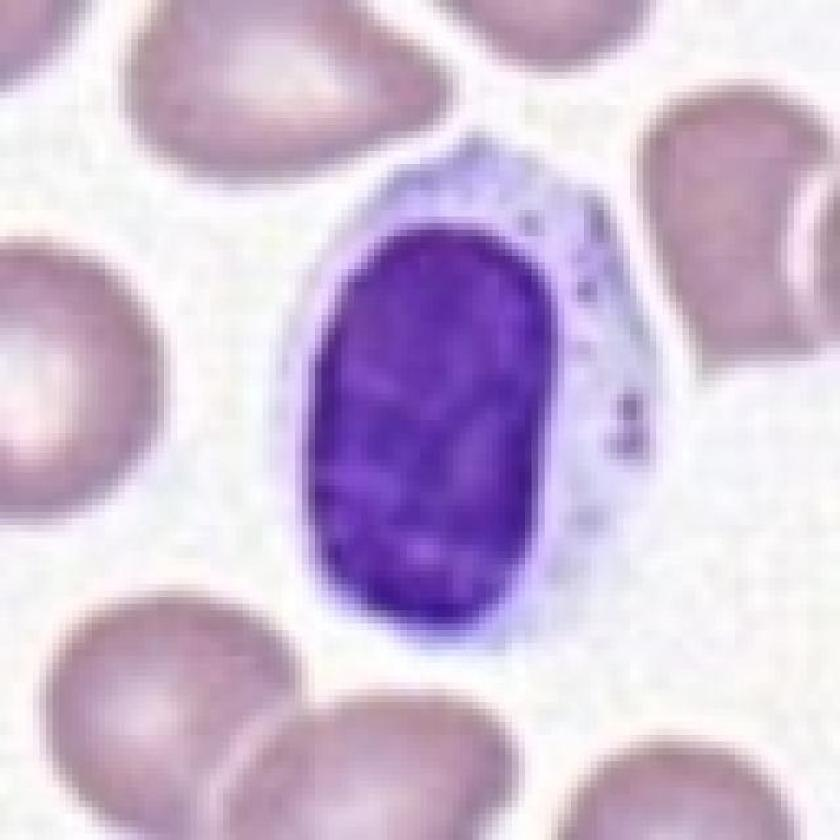lymphocyte: (261, 119, 670, 667)
